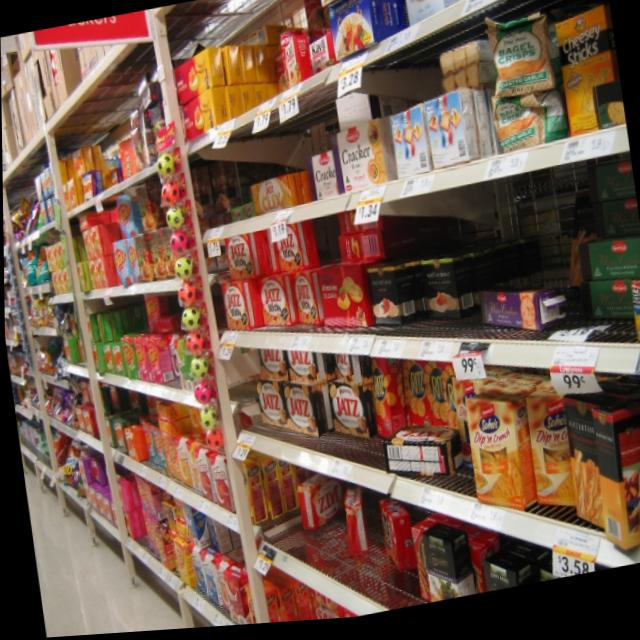q109: (325, 380, 377, 460), (274, 381, 323, 459), (250, 382, 287, 442), (285, 338, 321, 391)
